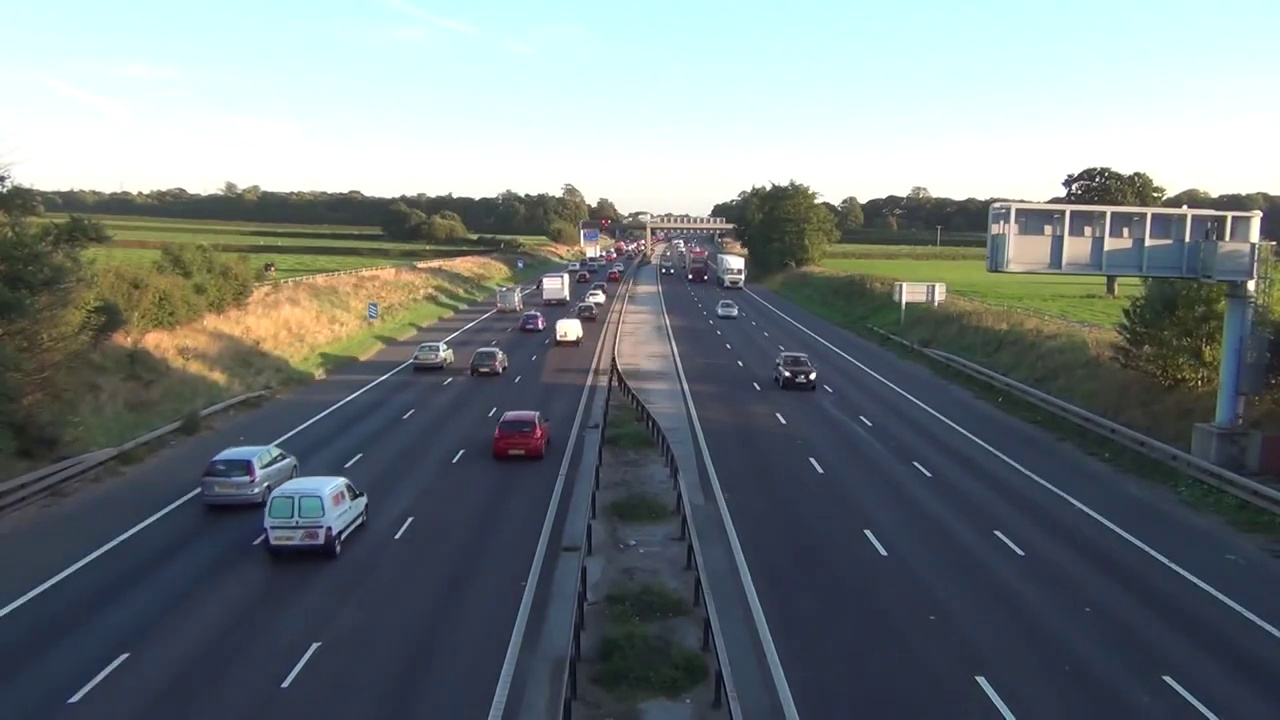bus: (203, 447, 299, 507), (494, 411, 550, 461), (774, 351, 818, 391), (470, 347, 509, 375), (413, 342, 455, 368), (519, 313, 545, 331), (716, 300, 737, 320), (578, 303, 596, 319), (585, 291, 607, 304)
car: (716, 253, 747, 289), (542, 273, 571, 305), (685, 247, 709, 284)
lorry: (266, 477, 369, 559), (554, 320, 584, 344), (495, 288, 523, 311)
